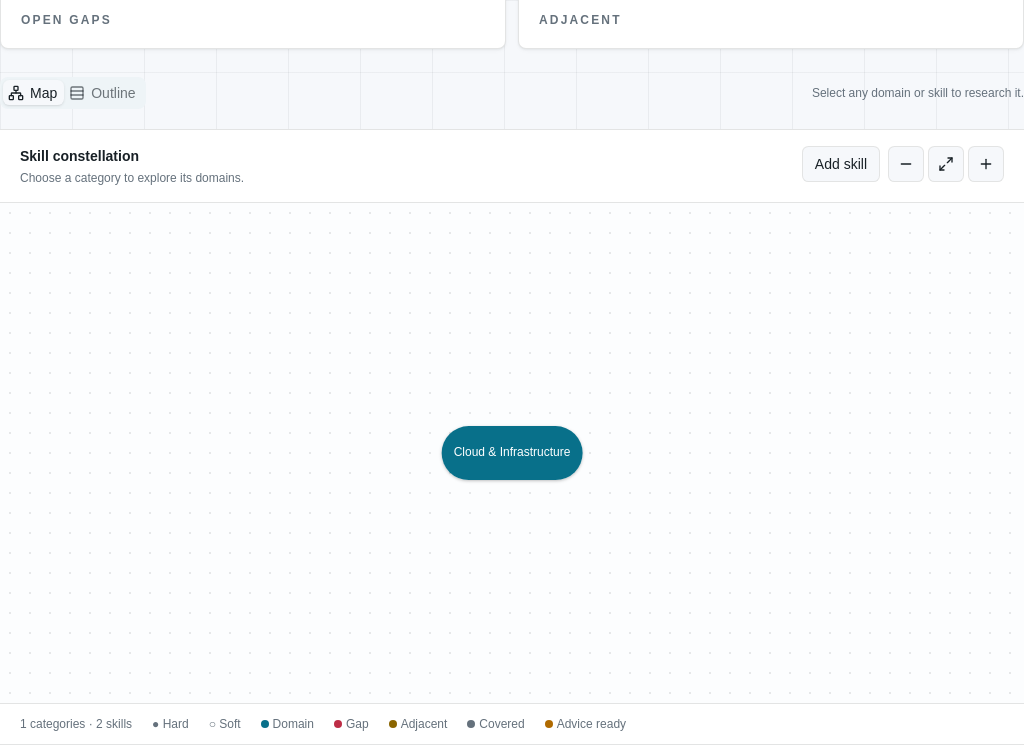
it: MatchGapContainer › keeps selection while switching between the controlled map and outline
This screenshot has width=1024, height=745.
(page scrolled)
Expected: the heading "Skill constellation" is shown, [20, 148, 139, 164]
Click the button with aria-label "Explore Cloud & Infrastructure" at (512, 453), box [441, 425, 583, 481]
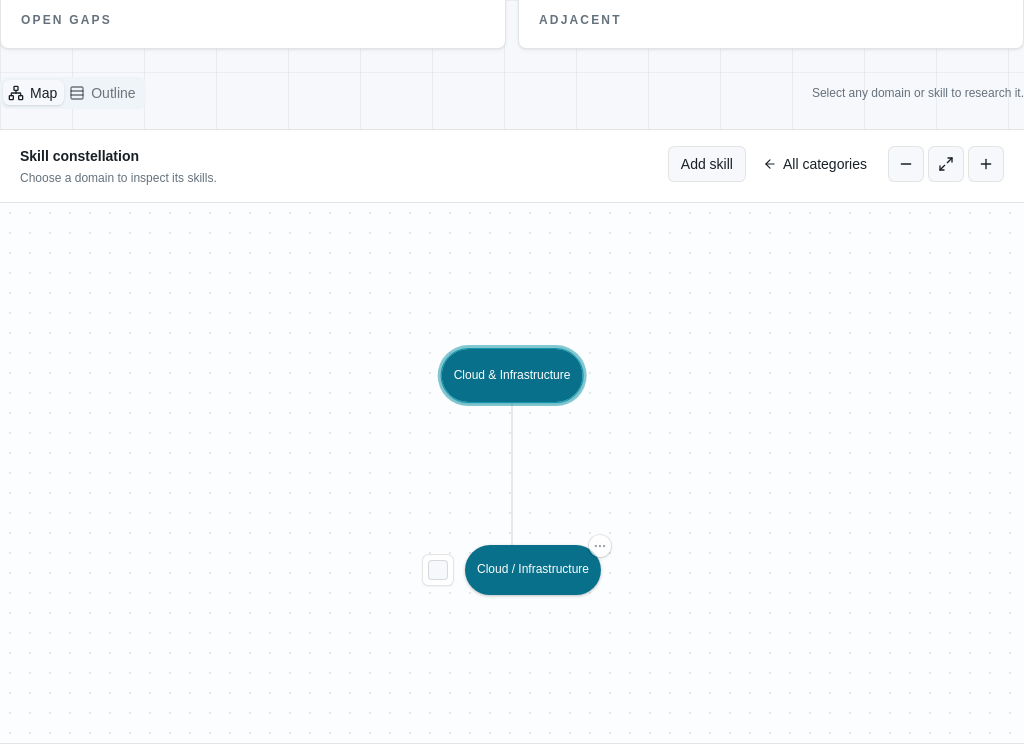
Click the checkbox named "Select Cloud / Infrastructure" at (438, 570), box [428, 560, 448, 580]
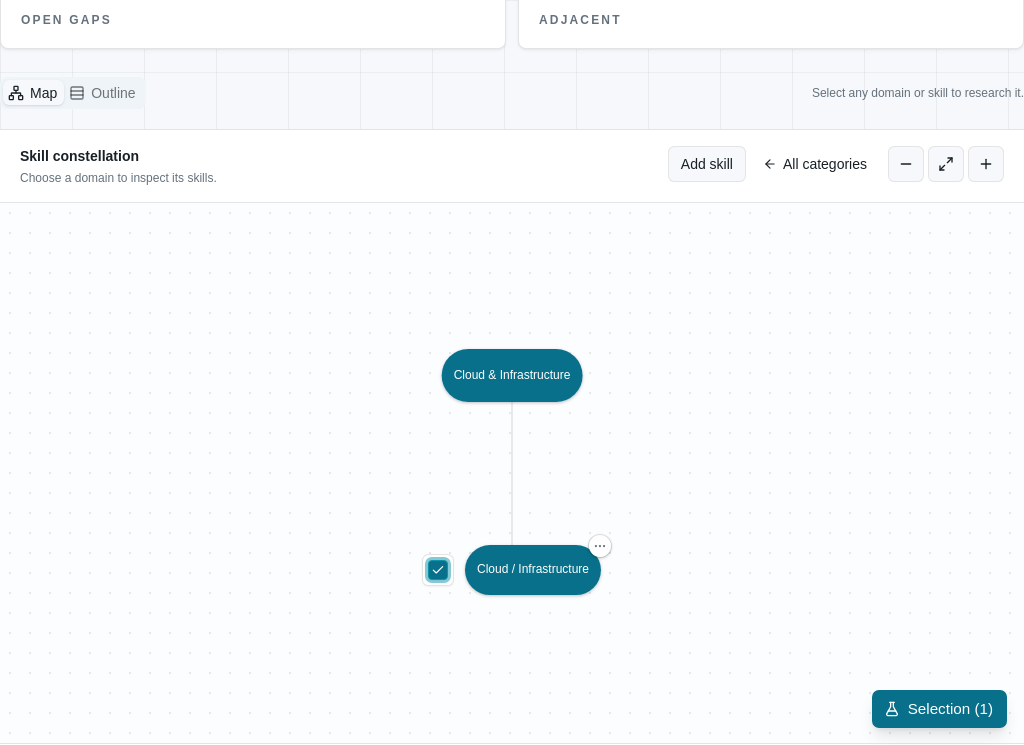
Expected: the button with aria-label "Open selection tray" shows "1", [871, 689, 1008, 729]
Click the tab "Outline" at (103, 93), box [64, 80, 143, 105]
(page scrolled)
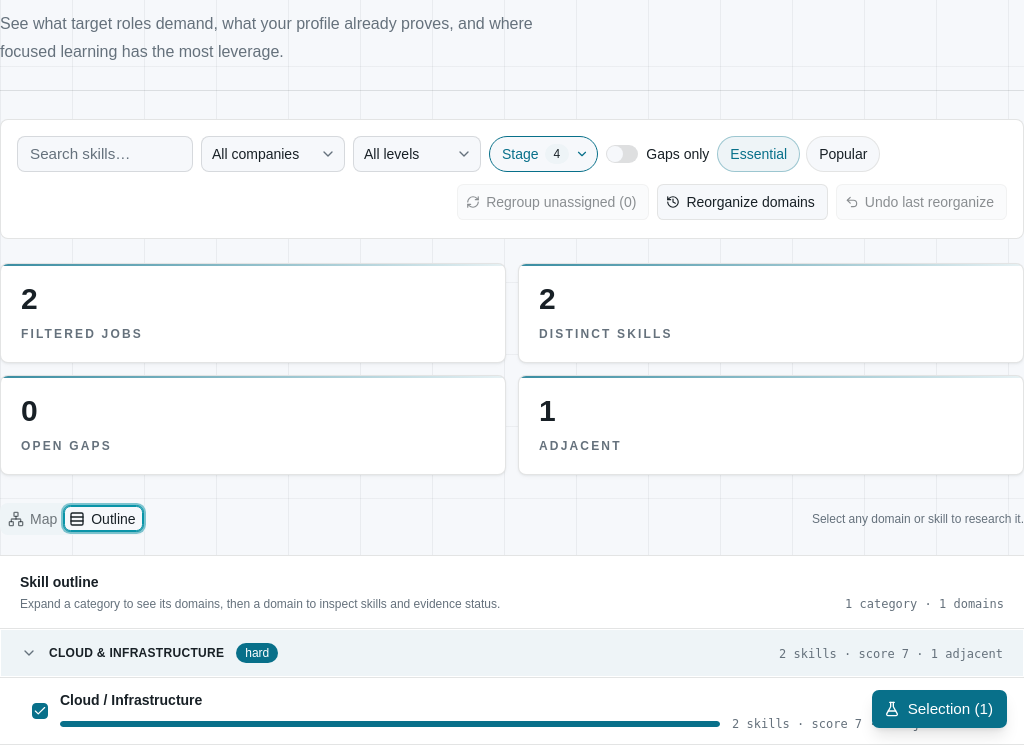
Expected: the heading "Skill outline" is shown, [20, 574, 99, 590]
Expected: the checkbox named "Select Cloud / Infrastructure domain" is checked, [32, 702, 48, 718]
Click the tab "Map" at (34, 519), box [3, 506, 64, 531]
(page scrolled)
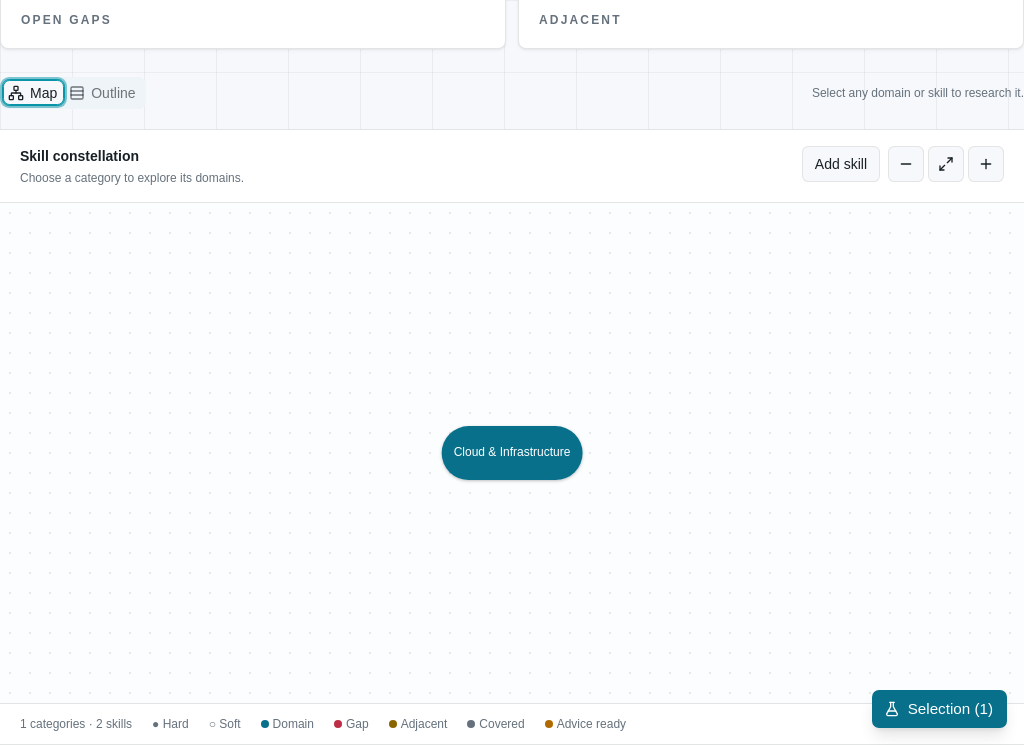
Click the button with aria-label "Explore Cloud & Infrastructure" at (512, 453), box [441, 425, 583, 481]
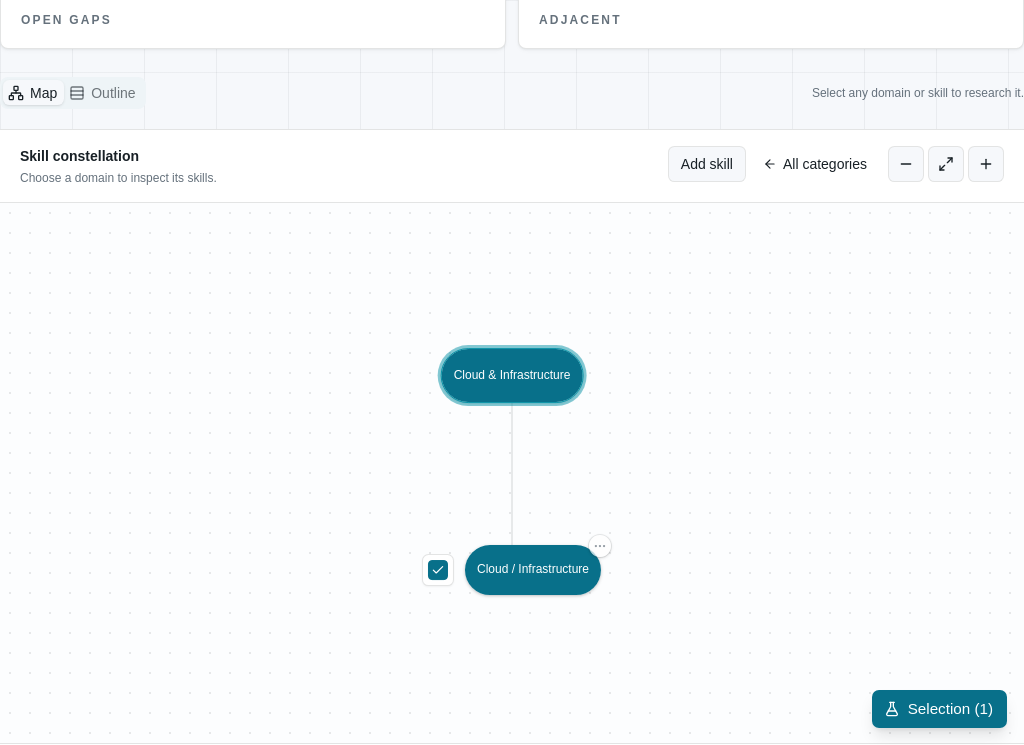
Expected: the checkbox named "Select Cloud / Infrastructure" is checked, [428, 560, 448, 580]
